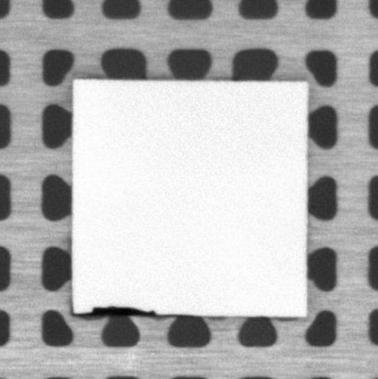DIE_BROKEN: (79, 305, 157, 318)
